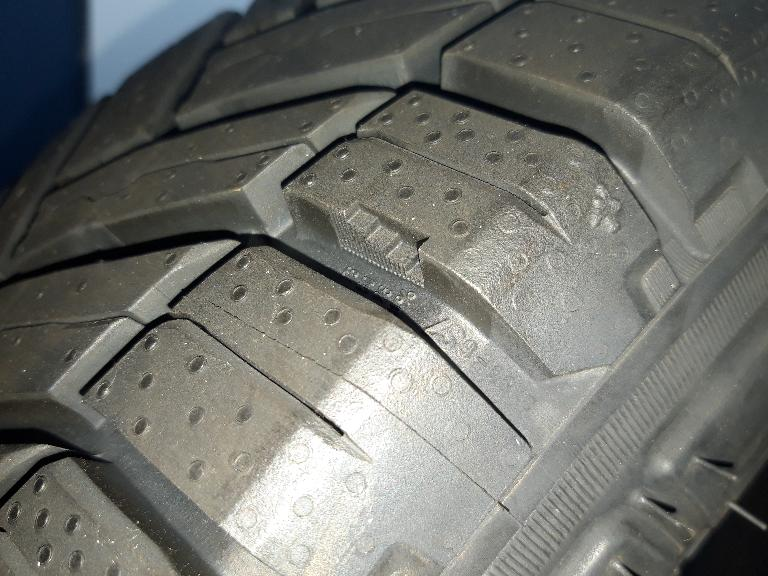temoin:100: (324, 196, 435, 291)
